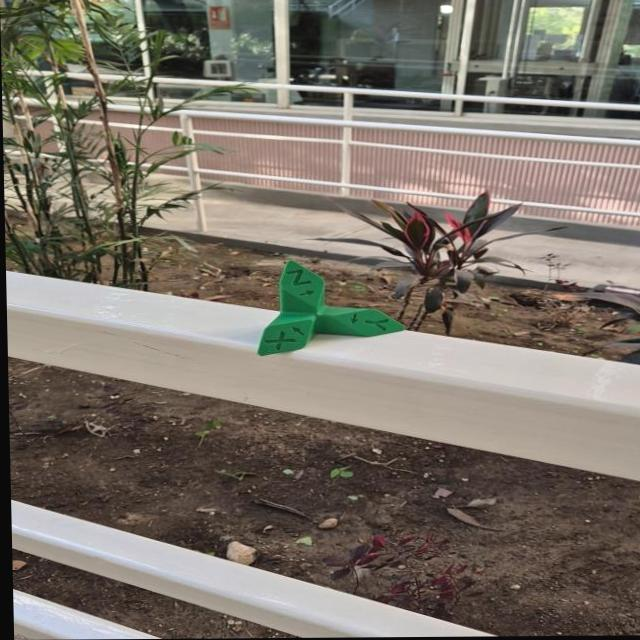eje: (252, 258, 407, 358)
